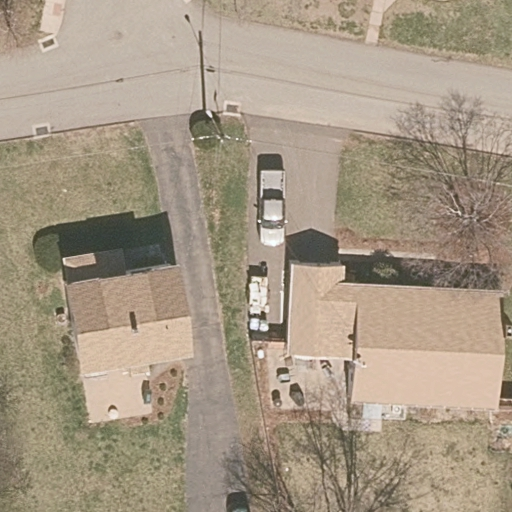DT: (190, 106, 252, 143)
